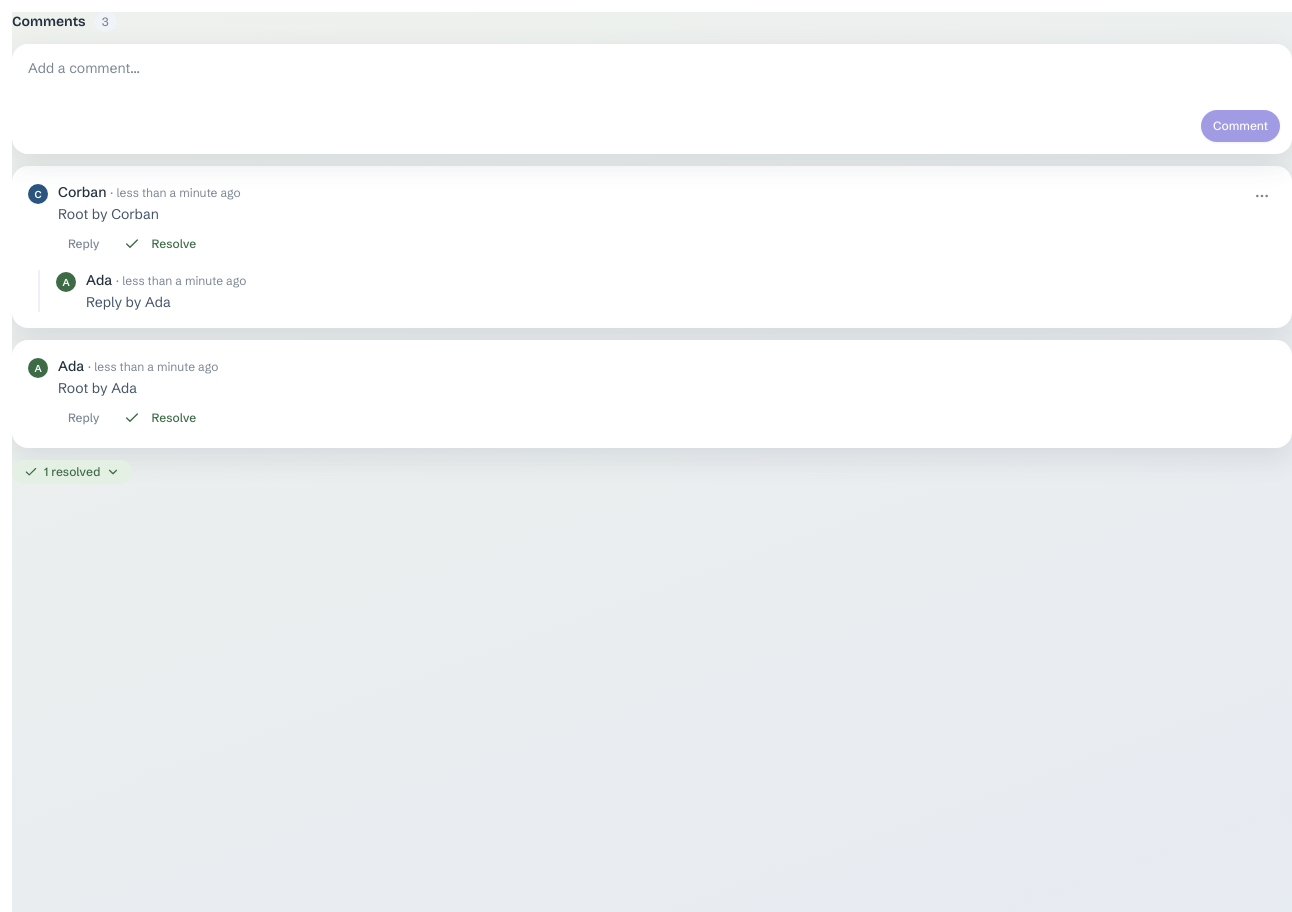
Test: CommentsSection › collapses resolved threads under a toggle and expands on click
Check: the text "Root by Corban" is shown, box left=58, top=205, right=159, bottom=223
Check: the text "Old resolved thread" is not shown
Click the button "1 resolved": click(72, 472) left=12, top=460, right=132, bottom=484
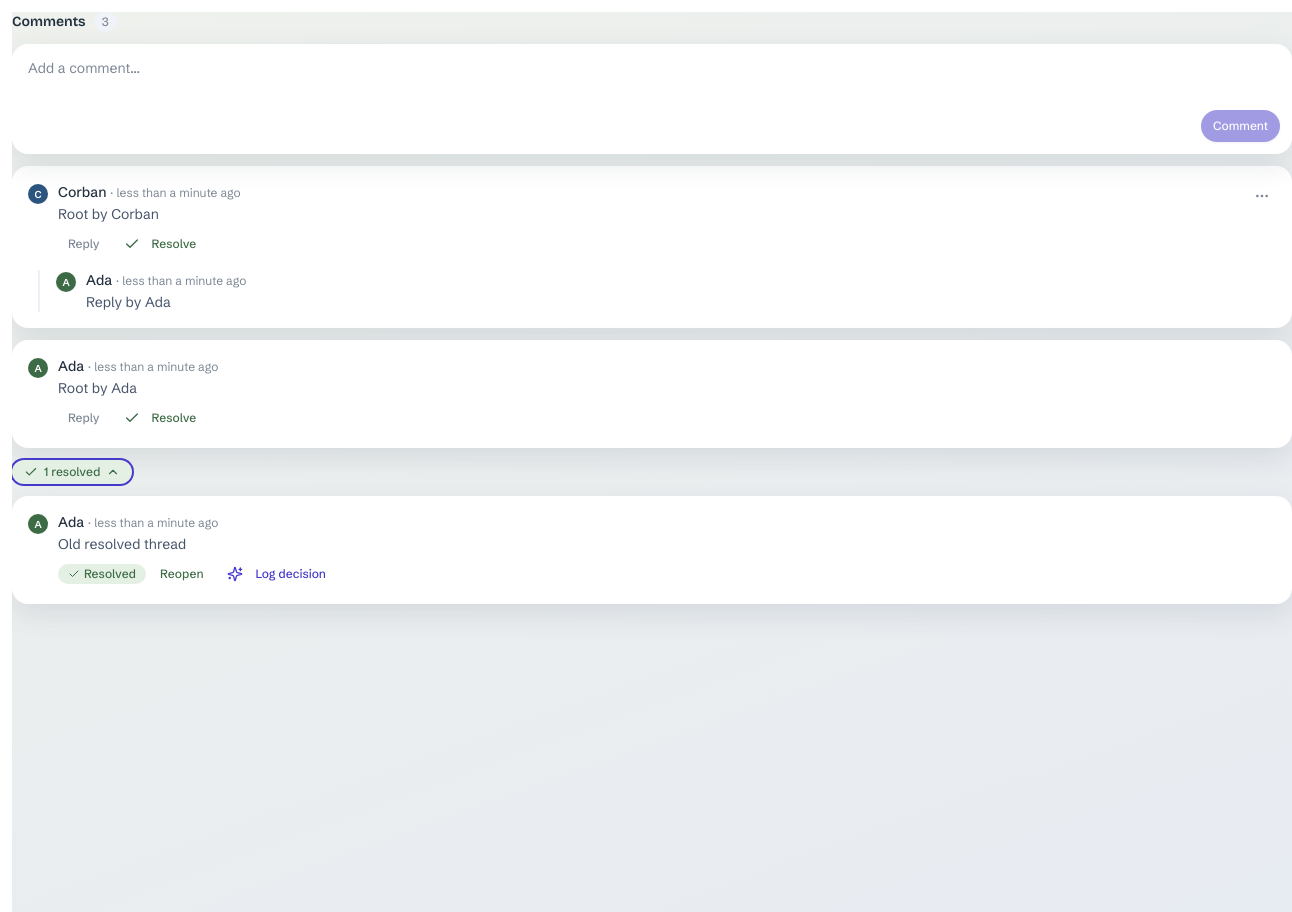
Check: the text "Old resolved thread" is shown, box left=58, top=535, right=186, bottom=553
Check: the button "Reopen" is shown, box left=150, top=560, right=214, bottom=588
